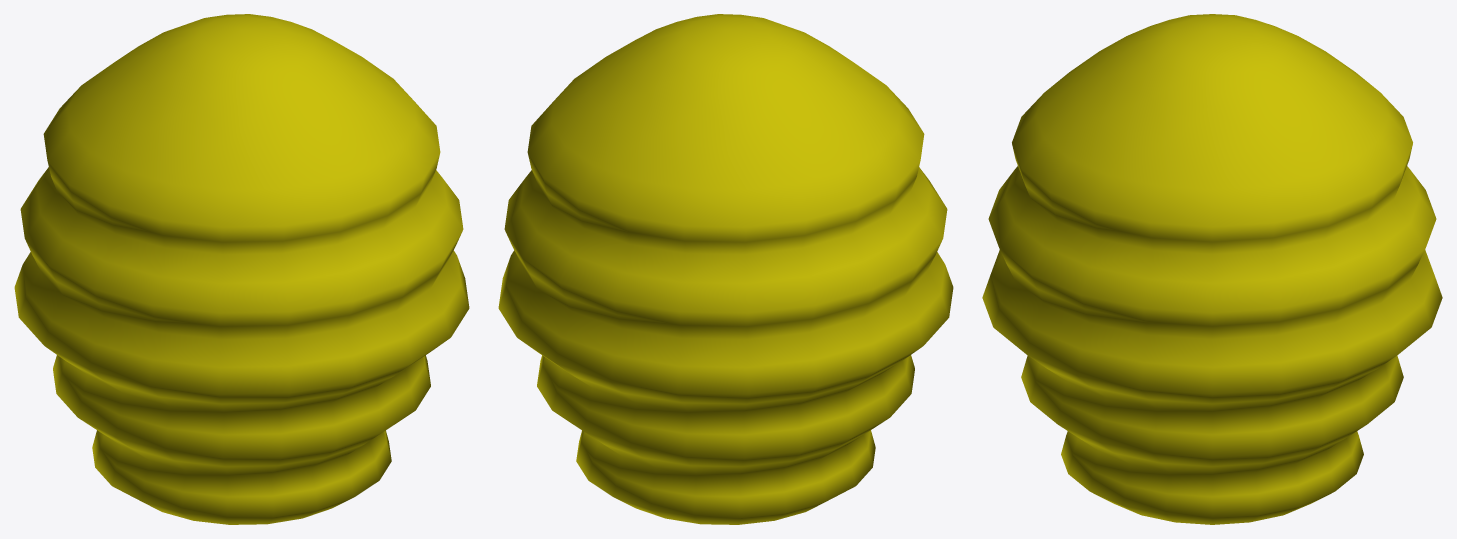
Rendered from panal.fbx.
The picture shows the model from 3 angles, left to right: view 1: azimuth 30°, elevation 25°; view 2: azimuth 150°, elevation 25°; view 3: azimuth 270°, elevation 25°; orthographic projection.
Visible parts, largest first — view 1: pSphere1; view 2: pSphere1; view 3: pSphere1.
Boxes of the visible parts, left/top/right/bottom form: pSphere1: left=14, top=14, right=469, bottom=524; pSphere1: left=498, top=14, right=953, bottom=524; pSphere1: left=982, top=14, right=1442, bottom=524.
Size of the model in its own units: 8.37 by 9.79 by 8.44.
